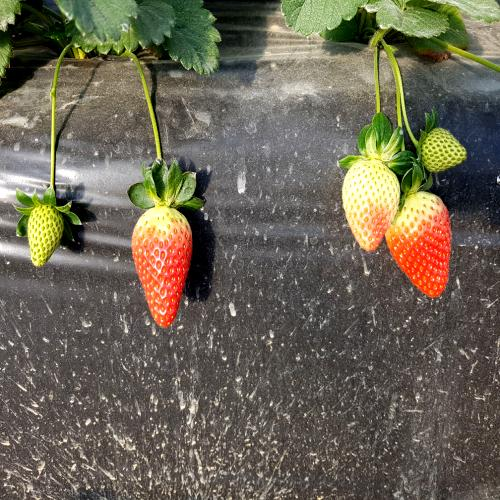partially-ripe: (131, 207, 197, 332), (388, 182, 456, 303), (338, 152, 395, 254)
